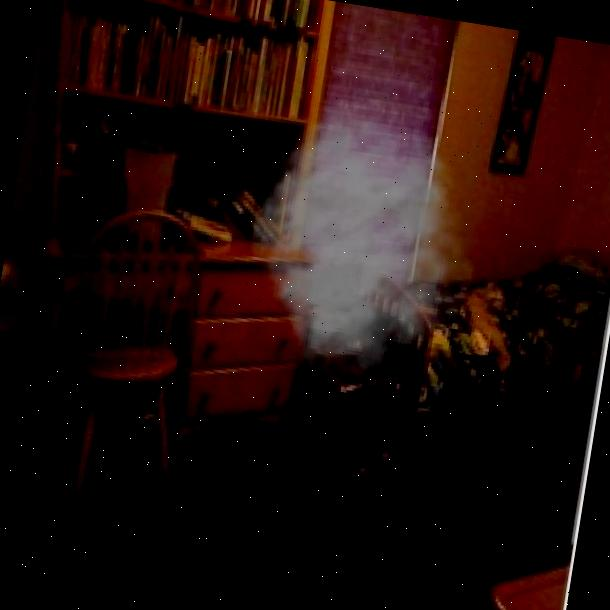smoke: (228, 89, 501, 405)
